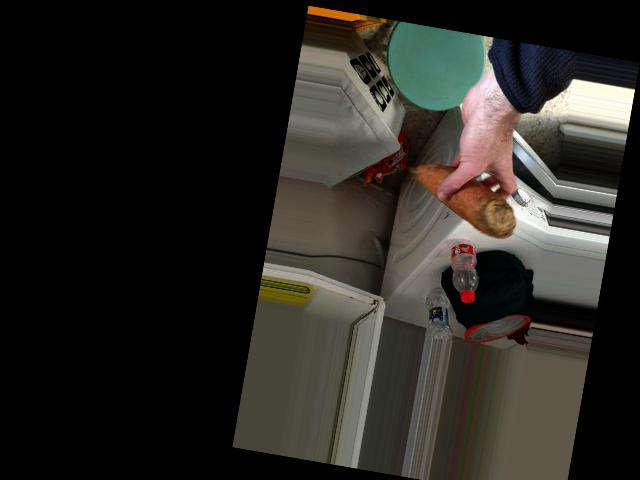sweet_potato: (408, 151, 518, 243)
